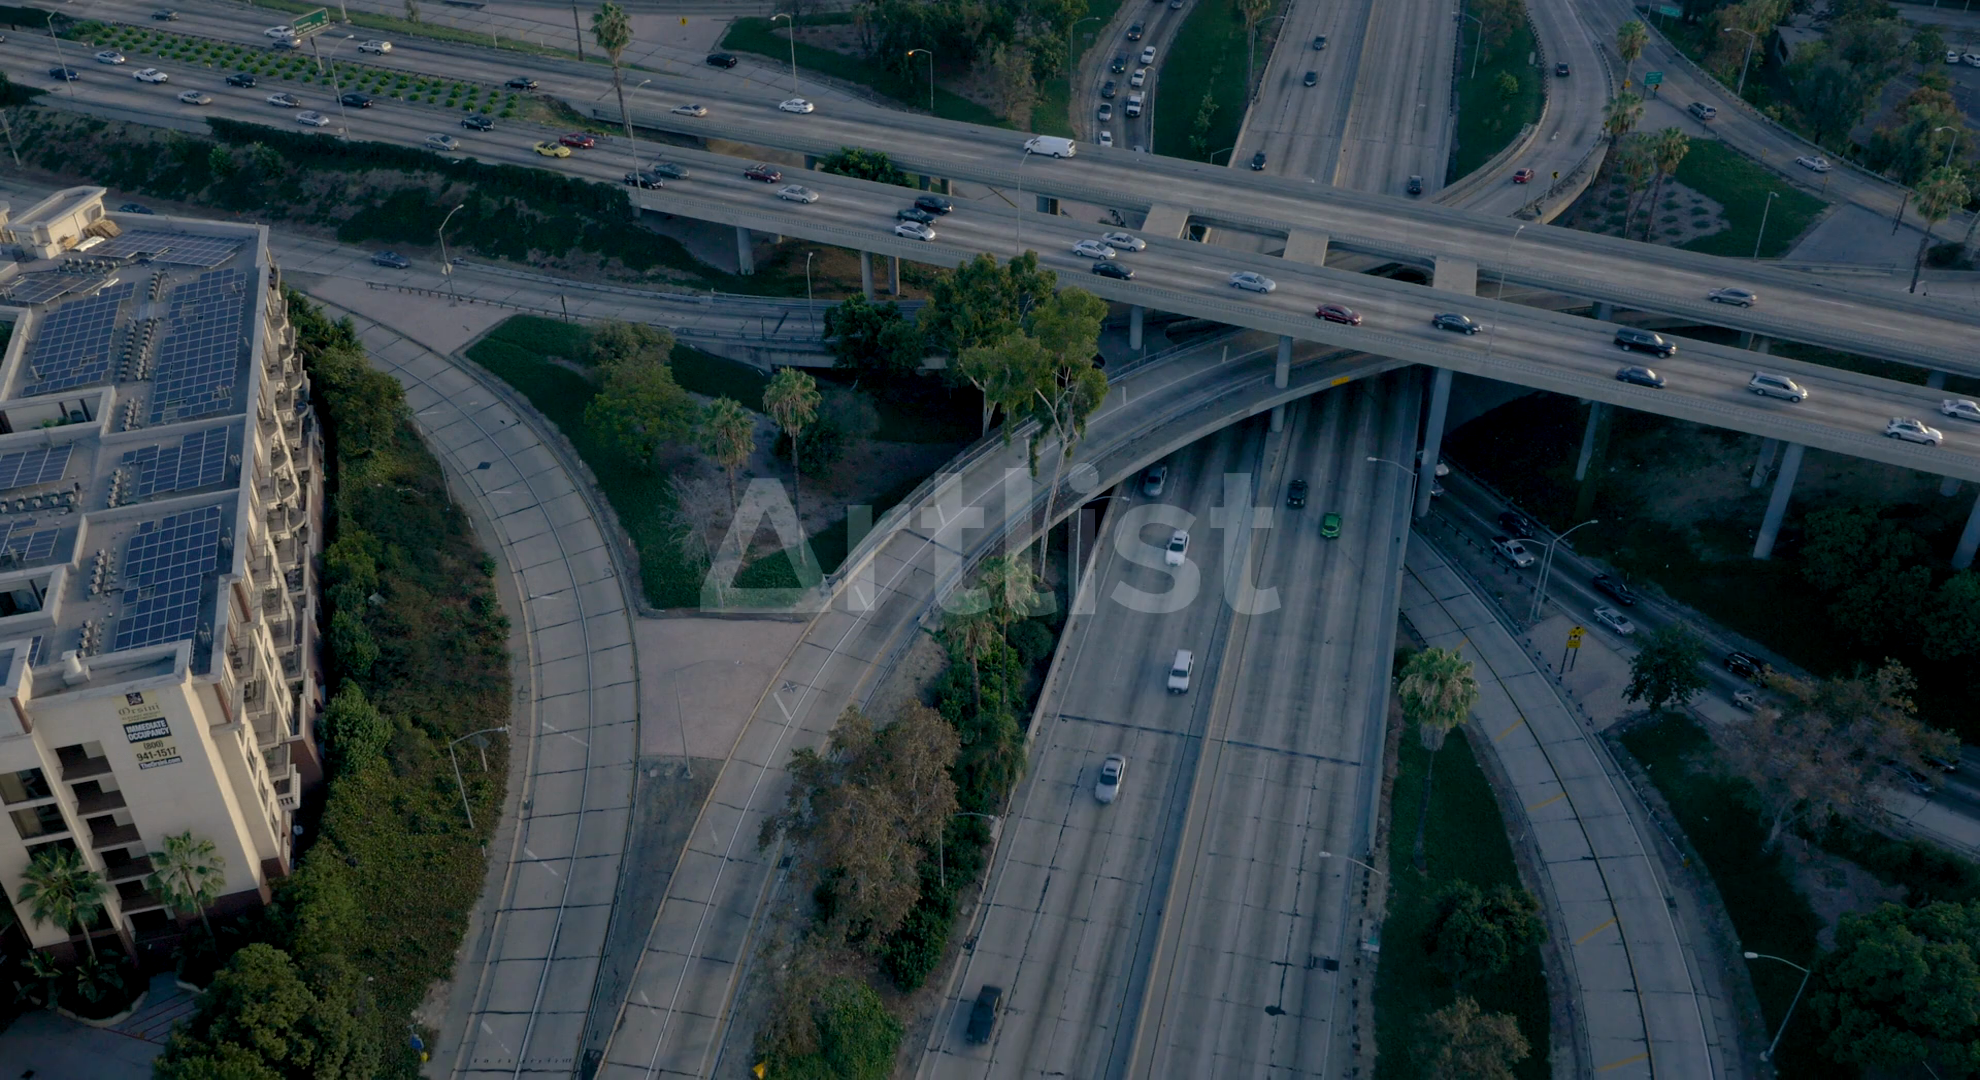building: (21, 710, 261, 916), (237, 375, 327, 678), (9, 535, 57, 561)
car: (1733, 380, 1800, 400), (971, 987, 997, 1037), (1731, 652, 1775, 682), (1164, 650, 1195, 690), (1282, 473, 1310, 517), (285, 17, 332, 43), (1161, 525, 1189, 568), (1142, 464, 1170, 507), (1319, 503, 1346, 547), (1735, 692, 1777, 720), (1019, 140, 1070, 161), (1096, 761, 1124, 799), (424, 132, 460, 152), (1939, 398, 1969, 420), (1439, 311, 1479, 329), (1238, 274, 1278, 291), (779, 96, 820, 112), (1714, 291, 1763, 305), (1624, 367, 1665, 382), (670, 104, 705, 120), (1497, 541, 1527, 560), (1508, 160, 1531, 182), (379, 251, 407, 269), (1604, 576, 1629, 595), (507, 74, 539, 89), (536, 142, 562, 160), (1598, 614, 1628, 629), (1249, 150, 1270, 170), (465, 118, 496, 132), (366, 41, 396, 55), (896, 222, 926, 235), (1617, 337, 1675, 343), (176, 93, 211, 104), (914, 194, 949, 205), (1404, 176, 1424, 194), (1322, 311, 1356, 322), (344, 93, 371, 106), (1794, 158, 1827, 169), (1298, 72, 1322, 86), (1698, 96, 1713, 120), (1312, 28, 1332, 45), (786, 188, 811, 201), (661, 162, 681, 178), (749, 168, 775, 180), (277, 94, 301, 108), (1900, 427, 1929, 438), (303, 116, 328, 128), (98, 49, 122, 61), (1125, 73, 1146, 86), (1104, 267, 1133, 277), (231, 76, 254, 88), (1505, 519, 1539, 527), (714, 55, 735, 67), (1128, 100, 1140, 120), (1558, 59, 1573, 74), (634, 173, 656, 184), (1116, 53, 1128, 72), (1122, 233, 1137, 247), (1945, 52, 1964, 63), (1105, 82, 1121, 94), (132, 72, 154, 80), (574, 134, 585, 150), (55, 68, 80, 74), (1133, 20, 1145, 33), (1082, 239, 1097, 249), (1102, 133, 1113, 145), (158, 15, 174, 21), (1149, 44, 1157, 57), (1102, 106, 1110, 117), (267, 29, 277, 33)
directionsign: (273, 39, 299, 51)
solarpanel: (170, 287, 233, 407), (134, 528, 201, 634), (40, 310, 110, 366), (136, 447, 223, 487), (120, 231, 215, 262), (16, 273, 93, 299), (13, 450, 66, 480)
